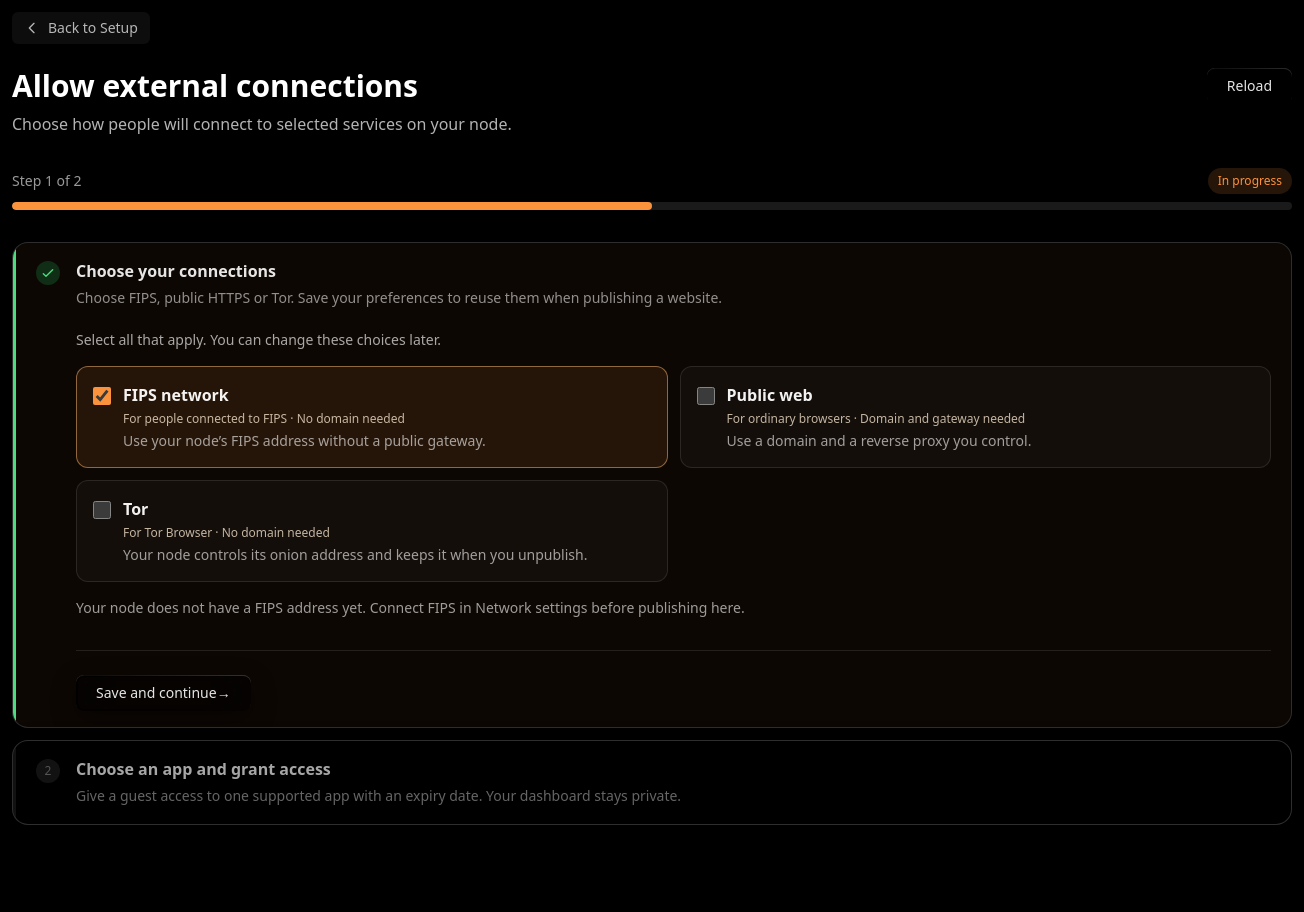
Test: publishing setup › loads choices from the node and saves multiple routes without activating them
Expected: the 1st checkbox is checked, [93,387,111,405]
Click the 3rd checkbox at {"x": 102, "y": 510}, box [93,501,111,519]
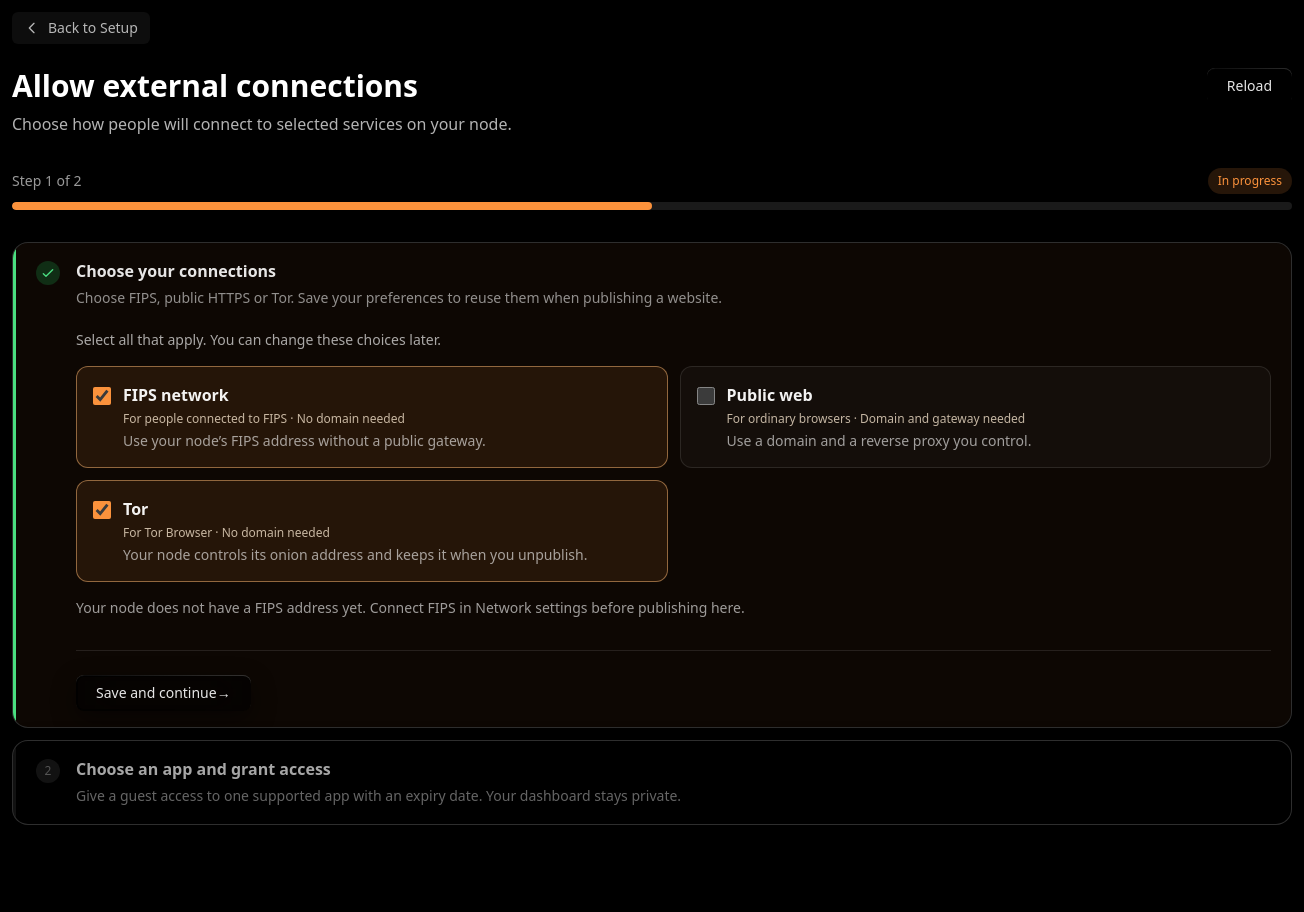
Click the button "Save and continue →" at {"x": 163, "y": 693}, box [76,675,251,711]
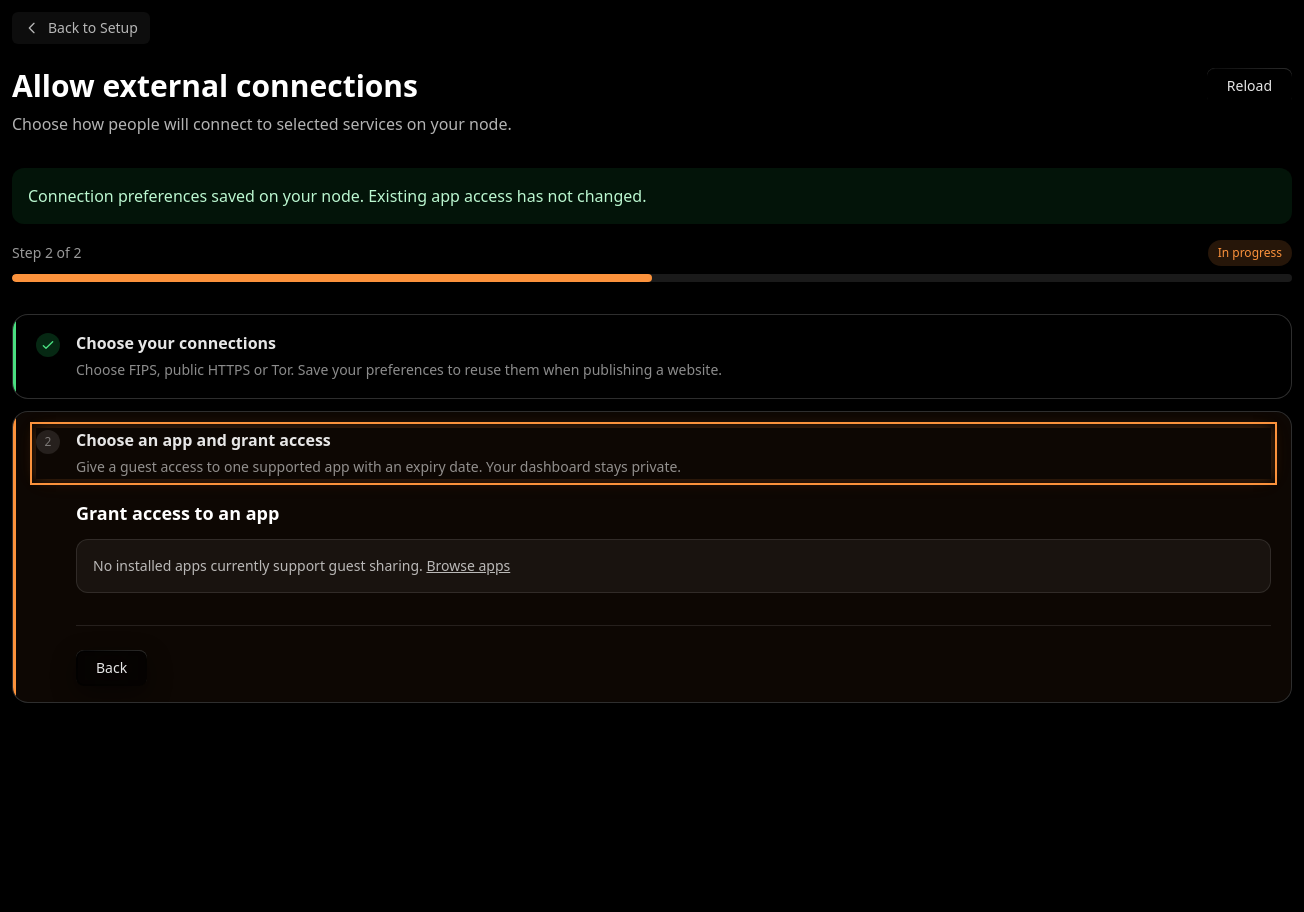
Expected: the text "Existing app access has not changed" is shown, [28,185,646,207]
